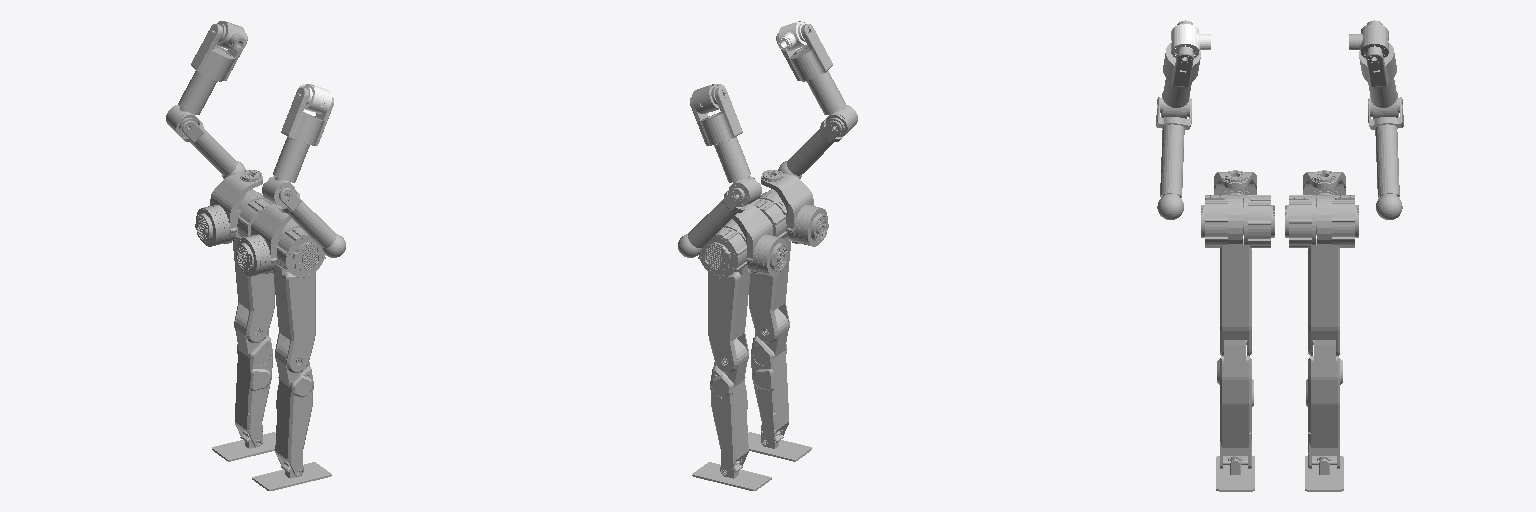
--- What the picture shows (computed from the rendered views, not written in the file) ---
Views: 3 orthographic renders of the robot side by side, from view 1: azimuth 30°, elevation 25°; view 2: azimuth 150°, elevation 25°; view 3: azimuth 270°, elevation 25°.
Robot: bot_elf — 32 links, 31 joints (12 revolute, 19 fixed); root link base_link; default pose: every joint at zero.
Links seen in each view (by area): view 1: r_hip_y_link, r_knee_y_link, l_knee_y_link, l_hip_z_link, l_hip_y_link, r_hip_z_link, r_elb_y_link, l_shld_x_link, r_shld_z_link, r_shld_x_link, l_shld_z_link, l_elb_y_link (+5 smaller); view 2: l_hip_y_link, l_knee_y_link, r_knee_y_link, r_hip_z_link, r_hip_y_link, l_hip_z_link, l_elb_y_link, r_shld_x_link, l_shld_z_link, l_shld_x_link, r_shld_z_link, r_elb_y_link (+5 smaller); view 3: l_hip_y_link, r_hip_y_link, l_knee_y_link, r_knee_y_link, r_elb_y_link, l_elb_y_link, l_hip_x_link, r_hip_x_link, l_ankle_x_link, r_ankle_x_link, r_shld_x_link, l_shld_x_link (+6 smaller).
Link boxes in pixels (x1,y1,x2,y2): r_hip_y_link: (273, 221, 325, 372); r_knee_y_link: (275, 338, 313, 476); l_knee_y_link: (235, 308, 272, 446); l_hip_z_link: (195, 170, 262, 246); l_hip_y_link: (233, 189, 274, 342); r_hip_z_link: (236, 204, 291, 276); r_elb_y_link: (276, 188, 345, 257); l_shld_x_link: (191, 24, 247, 81); r_shld_z_link: (262, 136, 309, 206); r_shld_x_link: (281, 87, 333, 145); l_shld_z_link: (166, 71, 217, 136); l_elb_y_link: (180, 119, 245, 178); l_hip_y_link: (698, 221, 750, 372); l_knee_y_link: (710, 338, 748, 476); r_knee_y_link: (751, 308, 788, 446); r_hip_z_link: (761, 170, 828, 246); r_hip_y_link: (749, 189, 790, 342); l_hip_z_link: (732, 204, 787, 276); l_elb_y_link: (678, 188, 747, 257); r_shld_x_link: (776, 24, 832, 81); l_shld_z_link: (714, 136, 761, 206); l_shld_x_link: (690, 87, 742, 145); r_shld_z_link: (806, 71, 857, 136); r_elb_y_link: (778, 119, 843, 178); l_hip_y_link: (1308, 195, 1358, 355); r_hip_y_link: (1201, 195, 1251, 355); l_knee_y_link: (1306, 340, 1342, 468); r_knee_y_link: (1217, 340, 1253, 468); r_elb_y_link: (1156, 97, 1191, 219); l_elb_y_link: (1368, 97, 1403, 219); l_hip_x_link: (1285, 195, 1316, 247); r_hip_x_link: (1243, 195, 1274, 247); l_ankle_x_link: (1305, 456, 1343, 491); r_ankle_x_link: (1216, 456, 1254, 491); r_shld_x_link: (1163, 20, 1200, 86); l_shld_x_link: (1359, 20, 1396, 86).
Bounding box of the posed robot: 0.2394 × 0.5577 × 1.11 m (x, y, z).
20 mesh visuals loaded from 21 distinct referenced files (20 OBJ); not drawn: 1 (reference not matched to a file when rendering).

URDF robot description (bot_elf):
<?xml version="1.0" encoding="utf-8"?>
<robot name="bot_elf">
  <link name="base_link">
    <inertial>
      <origin
        xyz="0.0047796 0.0024086 -0.0080626"
        rpy="0 0 0" />
      <mass
        value="8.1797" />
      <inertia
        ixx="0.048088"
        ixy="1.5174E-07"
        ixz="1.072E-05"
        iyy="0.025715"
        iyz="-1.8442E-06"
        izz="0.034109" />
    </inertial>
    <visual>
      <origin
        xyz="0 0 0"
        rpy="0 0 0" />
      <geometry>
        <mesh
          filename="../meshes/base_link.obj" />
      </geometry>
      <material
        name="">
        <color
          rgba="0.75294 0.75294 0.75294 1" />
      </material>
    </visual>
    <collision>
      <origin
        xyz="0 0 0"
        rpy="0 0 0" />
      <geometry>
        <mesh
          filename="../meshes/base_link.obj" />
      </geometry>
    </collision>
  </link>
  <link name="l_hip_z_link">
    <inertial>
      <origin
        xyz="-0.0926596088186881 1.83143900212845E-05 0.013335848664072"
        rpy="0 0 0" />
      <mass
        value="1.23681233828303" />
      <inertia
        ixx="0.00190369835860619"
        ixy="5.51860109314912E-07"
        ixz="-0.000295974194800576"
        iyy="0.00158455365942534"
        iyz="2.68654743796429E-06"
        izz="0.00116909292803411" />
    </inertial>
    <visual>
      <origin
        xyz="0 0 0"
        rpy="0 0 0" />
      <geometry>
        <mesh
          filename="../meshes/l_hip_z_link.obj" />
      </geometry>
      <material
        name="">
        <color
          rgba="0.752941176470588 0.752941176470588 0.752941176470588 1" />
      </material>
    </visual>
    <!-- <collision>
      <origin
        xyz="0 0 0"
        rpy="0 0 0" />
      <geometry>
        <mesh
          filename="../meshes/l_hip_z_link.obj" />
      </geometry>
    </collision> -->
  </link>
  <joint name="l_hip_z_joint"
    type="revolute">
    <origin
      xyz="0 0.1 -0.2929"
      rpy="0 0 0" />
    <parent
      link="base_link" />
    <child
      link="l_hip_z_link" />
    <axis
      xyz="0 0 1" />
    <limit
      lower="-0.785"
      upper="0.785"
      effort="20"
      velocity="20" />
    <dynamics damping="0.0" friction="0.0" rotor_inertia="0.01"/>
  </joint>
  <link name="l_hip_x_link">
    <inertial>
      <origin
        xyz="-0.00338370329540797 -0.0467745110690707 5.150285588576E-06"
        rpy="0 0 0" />
      <mass
        value="1.52690683733997" />
      <inertia
        ixx="0.00145004913823758"
        ixy="4.10352624430737E-05"
        ixz="4.97801733338824E-08"
        iyy="0.00233457718239287"
        iyz="-1.50048456747228E-08"
        izz="0.00157352349598003" />
    </inertial>
    <visual>
      <origin
        xyz="0 0 0"
        rpy="0 0 0" />
      <geometry>
        <mesh
          filename="../meshes/l_hip_x_link.obj" />
      </geometry>
      <material
        name="">
        <color
          rgba="0.752941176470588 0.752941176470588 0.752941176470588 1" />
      </material>
    </visual>
    <!-- <collision>
      <origin
        xyz="0 0 0"
        rpy="0 0 0" />
      <geometry>
        <mesh
          filename="../meshes/l_hip_x_link.obj" />
      </geometry>
    </collision> -->
  </link>
  <joint name="l_hip_x_joint"
    type="revolute">
    <origin
      xyz="0 0 0"
      rpy="0 0 0" />
    <parent
      link="l_hip_z_link" />
    <child
      link="l_hip_x_link" />
    <axis
      xyz="1 0 0" />
    <limit
      lower="-0.523"
      upper="0.785"
      effort="40"
      velocity="20" />
    <dynamics damping="0.0" friction="0.0" rotor_inertia="0.01"/>
  </joint>
  <link name="l_hip_y_link">
    <inertial>
      <origin
        xyz="0.00255762409650847 0.0236405387147591 -0.048808744713007"
        rpy="0 0 0" />
      <mass
        value="2.50086507860377" />
      <inertia
        ixx="0.0110437074735068"
        ixy="1.73008147567407E-06"
        ixz="0.000227328231594566"
        iyy="0.0125914973055777"
        iyz="-2.64879858826109E-05"
        izz="0.0023184281360165" />
    </inertial>
    <visual>
      <origin
        xyz="0 0 0"
        rpy="0 0 0" />
      <geometry>
        <mesh
          filename="../meshes/l_hip_y_link.obj" />
      </geometry>
      <material
        name="">
        <color
          rgba="0.752941176470588 0.752941176470588 0.752941176470588 1" />
      </material>
    </visual>
    <collision>
      <origin
        xyz="0 0 0"
        rpy="0 0 0" />
      <geometry>
        <mesh
          filename="../meshes/l_hip_y_link.obj" />
      </geometry>
    </collision>
  </link>
  <joint name="l_hip_y_joint"
    type="revolute">
    <origin
      xyz="0 0 0"
      rpy="0 0 0" />
    <parent
      link="l_hip_x_link" />
    <child
      link="l_hip_y_link" />
    <axis
      xyz="0 1 0" />
    <limit
      lower="-2"
      upper="0.5"
      effort="150"
      velocity="20" />
    <dynamics damping="0.0" friction="0.0" rotor_inertia="0.02"/>
  </joint>
  <link name="l_knee_y_link">
    <inertial>
      <origin
        xyz="0.00615799985005955 0.000579611337631 -0.110706777787508"
        rpy="0 0 0" />
      <mass
        value="1.42611317447382" />
      <inertia
        ixx="0.00265261046145861"
        ixy="3.62716577648164E-06"
        ixz="-0.00014997989154327"
        iyy="0.00293783143268895"
        iyz="1.89587363258298E-05"
        izz="0.000614654317255875" />
    </inertial>
    <visual>
      <origin
        xyz="0 0 0"
        rpy="0 0 0" />
      <geometry>
        <mesh
          filename="../meshes/l_knee_y_link.obj" />
      </geometry>
      <material
        name="">
        <color
          rgba="0.752941176470588 0.752941176470588 0.752941176470588 1" />
      </material>
    </visual>
    <!-- <collision>
      <origin
        xyz="0 0 0"
        rpy="0 0 0" />
      <geometry>
        <mesh
          filename="../meshes/l_knee_y_link.obj" />
      </geometry>
    </collision> -->
  </link>
  <joint name="l_knee_y_joint"
    type="revolute">
    <origin
      xyz="0 0 -0.3"
      rpy="0 0 0" />
    <parent
      link="l_hip_y_link" />
    <child
      link="l_knee_y_link" />
    <axis
      xyz="0 1 0" />
    <limit
      lower="0"
      upper="2.2"
      effort="150"
      velocity="20" />
    <dynamics damping="0.0" friction="0.0" rotor_inertia="0.02"/>
  </joint>
  <link name="l_ankle_y_link">
    <inertial>
      <origin
        xyz="-6.09814513086586E-12 5.83219791905343E-10 3.64153152077051E-14"
        rpy="0 0 0" />
      <mass
        value="0.0230716180694964" />
      <inertia
        ixx="2.87473990078246E-06"
        ixy="-5.92541251517592E-17"
        ixz="-6.2876746116499E-18"
        iyy="5.59461108357194E-07"
        iyz="5.67081566973957E-19"
        izz="2.6957694272781E-06" />
    </inertial>
    <visual>
      <origin
        xyz="0 0 0"
        rpy="0 0 0" />
      <geometry>
        <mesh
          filename="../meshes/l_ankle_y_link.obj" />
      </geometry>
      <material
        name="">
        <color
          rgba="0.752941176470588 0.752941176470588 0.752941176470588 1" />
      </material>
    </visual>
    <!-- <collision>
      <origin
        xyz="0 0 0"
        rpy="0 0 0" />
      <geometry>
        <mesh
          filename="../meshes/l_ankle_y_link.obj" />
      </geometry>
    </collision> -->
  </link>
  <joint name="l_ankle_y_joint"
    type="revolute">
    <origin
      xyz="0 0 -0.3"
      rpy="0 0 0" />
    <parent
      link="l_knee_y_link" />
    <child
      link="l_ankle_y_link" />
    <axis
      xyz="0 1 0" />
    <limit
      lower="-1.134"
      upper="0.872"
      effort="14"
      velocity="20" />
    <dynamics damping="0.0" friction="0.0" rotor_inertia="0.006"/>
  </joint>
  <link name="l_ankle_x_link">
    <inertial>
      <origin
        xyz="-0.000451547351572134 1.90180791947991E-09 -0.0239480271401858"
        rpy="0 0 0" />
      <mass
        value="0.242076229237956" />
      <inertia
        ixx="0.000133478606835497"
        ixy="-1.35534858432808E-12"
        ixz="-4.72078298245015E-08"
        iyy="0.000565974636810553"
        iyz="-3.48826857670192E-12"
        izz="0.000693006055828246" />
    </inertial>
    <visual>
      <origin
        xyz="0 0 0"
        rpy="0 0 0" />
      <geometry>
        <mesh
          filename="../meshes/l_ankle_x_link.obj" />
      </geometry>
      <material
        name="">
        <color
          rgba="0.752941176470588 0.752941176470588 0.752941176470588 1" />
      </material>
    </visual>
    <collision>
      <origin
        xyz="0 0 0"
        rpy="0 0 0" />
      <geometry>
        <mesh
          filename="../meshes/l_ankle_x_link.obj" />
      </geometry>
    </collision>
    <!-- <collision>
      <origin
        xyz="0 0 -0.0145"
        rpy="0 0 0" />
      <geometry>
        <box size="0.18 0.086 0.029"/>
      </geometry>
    </collision> -->
  </link>
  <joint name="l_ankle_x_joint"
    type="revolute">
    <origin
      xyz="0 0 0"
      rpy="0 0 0" />
    <parent
      link="l_ankle_y_link" />
    <child
      link="l_ankle_x_link" />
    <axis
      xyz="1 0 0" />
    <limit
      lower="-0.349"
      upper="0.349"
      effort="14"
      velocity="20" />
    <dynamics damping="0.0" friction="0.0" rotor_inertia="0.006"/>
  </joint>
  <link name="r_hip_z_link">
    <inertial>
      <origin
        xyz="-0.0926596100628432 -1.83149507901742E-05 0.0133358473859379"
        rpy="0 0 0" />
      <mass
        value="1.23681232467206" />
      <inertia
        ixx="0.00190369819431391"
        ixy="-5.51893727727547E-07"
        ixz="-0.000295974083738072"
        iyy="0.00158455355805139"
        iyz="-2.68652577448903E-06"
        izz="0.00116909298056176" />
    </inertial>
    <visual>
      <origin
        xyz="0 0 0"
        rpy="0 0 0" />
      <geometry>
        <mesh
          filename="../meshes/r_hip_z_link.obj" />
      </geometry>
      <material
        name="">
        <color
          rgba="0.752941176470588 0.752941176470588 0.752941176470588 1" />
      </material>
    </visual>
    <!-- <collision>
      <origin
        xyz="0 0 0"
        rpy="0 0 0" />
      <geometry>
        <mesh
          filename="../meshes/r_hip_z_link.obj" />
      </geometry>
    </collision> -->
  </link>
  <joint name="r_hip_z_joint"
    type="revolute">
    <origin
      xyz="0 -0.1 -0.2929"
      rpy="0 0 0" />
    <parent
      link="base_link" />
    <child
      link="r_hip_z_link" />
    <axis
      xyz="0 0 1" />
    <limit
      lower="-0.785"
      upper="0.785"
      effort="20"
      velocity="20" />
    <dynamics damping="0.0" friction="0.0" rotor_inertia="0.01"/>
  </joint>
  <link name="r_hip_x_link">
    <inertial>
      <origin
        xyz="-0.00338370329319122 0.0467745110719649 -5.15028594272327E-06"
        rpy="0 0 0" />
      <mass
        value="1.52690683726889" />
      <inertia
        ixx="0.00145004913816721"
        ixy="-4.1035262366074E-05"
        ixz="-4.97801918977252E-08"
        iyy="0.00233457718230779"
        iyz="-1.50048535538651E-08"
        izz="0.00157352349584134" />
    </inertial>
    <visual>
      <origin
        xyz="0 0 0"
        rpy="0 0 0" />
      <geometry>
        <mesh
          filename="../meshes/r_hip_x_link.obj" />
      </geometry>
      <material
        name="">
        <color
          rgba="0.752941176470588 0.752941176470588 0.752941176470588 1" />
      </material>
    </visual>
    <!-- <collision>
      <origin
        xyz="0 0 0"
        rpy="0 0 0" />
      <geometry>
        <mesh
          filename="../meshes/r_hip_x_link.obj" />
      </geometry>
    </collision> -->
  </link>
  <joint name="r_hip_x_joint"
    type="revolute">
    <origin
      xyz="0 0 0"
      rpy="0 0 0" />
    <parent
      link="r_hip_z_link" />
    <child
      link="r_hip_x_link" />
    <axis
      xyz="1 0 0" />
    <limit
      lower="-0.785"
      upper="0.523"
      effort="40"
      velocity="20" />
    <dynamics damping="0.0" friction="0.0" rotor_inertia="0.01"/>
  </joint>
  <link name="r_hip_y_link">
    <inertial>
      <origin
        xyz="0.00255763066098993 -0.0236405391952909 -0.0488087769927071"
        rpy="0 0 0" />
      <mass
        value="2.50086518492187" />
      <inertia
        ixx="0.0110437209512944"
        ixy="-1.72998158531581E-06"
        ixz="0.000227332007725612"
        iyy="0.012591510850742"
        iyz="2.64884628868717E-05"
        izz="0.00231842880087343" />
    </inertial>
    <visual>
      <origin
        xyz="0 0 0"
        rpy="0 0 0" />
      <geometry>
        <mesh
          filename="../meshes/r_hip_y_link.obj" />
      </geometry>
      <material
        name="">
        <color
          rgba="0.752941176470588 0.752941176470588 0.752941176470588 1" />
      </material>
    </visual>
    <collision>
      <origin
        xyz="0 0 0"
        rpy="0 0 0" />
      <geometry>
        <mesh
          filename="../meshes/r_hip_y_link.obj" />
      </geometry>
    </collision>
  </link>
  <joint name="r_hip_y_joint"
    type="revolute">
    <origin
      xyz="0 0 0"
      rpy="0 0 0" />
    <parent
      link="r_hip_x_link" />
    <child
      link="r_hip_y_link" />
    <axis
      xyz="0 1 0" />
    <limit
      lower="-2"
      upper="0.5"
      effort="150"
      velocity="20" />
    <dynamics damping="0.0" friction="0.0" rotor_inertia="0.02"/>
  </joint>
  <link name="r_knee_y_link">
    <inertial>
      <origin
        xyz="0.00617132335541426 -0.000560807743664765 -0.11065165092477"
        rpy="0 0 0" />
      <mass
        value="1.42506790131187" />
      <inertia
        ixx="0.00264676043875699"
        ixy="-3.64420143143032E-06"
        ixz="-0.000149674709580511"
        iyy="0.00293197556843643"
        iyz="-1.92776513579778E-05"
        izz="0.000614607093781911" />
    </inertial>
    <visual>
      <origin
        xyz="0 0 0"
        rpy="0 0 0" />
      <geometry>
        <mesh
          filename="../meshes/r_knee_y_link.obj" />
      </geometry>
      <material
        name="">
        <color
          rgba="0.752941176470588 0.752941176470588 0.752941176470588 1" />
      </material>
    </visual>
    <!-- <collision>
      <origin
        xyz="0 0 0"
        rpy="0 0 0" />
      <geometry>
        <mesh
          filename="../meshes/r_knee_y_link.obj" />
      </geometry>
    </collision> -->
  </link>
  <joint name="r_knee_y_joint"
    type="revolute">
    <origin
      xyz="0 0 -0.3"
      rpy="0 0 0" />
    <parent
      link="r_hip_y_link" />
    <child
      link="r_knee_y_link" />
    <axis
      xyz="0 1 0" />
    <limit
      lower="0"
      upper="2.2"
      effort="150"
      velocity="20" />
    <dynamics damping="0.0" friction="0.0" rotor_inertia="0.02"/>
  </joint>
  <link name="r_ankle_y_link">
    <inertial>
      <origin
        xyz="-1.21872957033124E-11 -5.83219417205072E-10 5.00266494896096E-13"
        rpy="0 0 0" />
      <mass
        value="0.0230716180694967" />
      <inertia
        ixx="2.8747399010197E-06"
        ixy="-6.04370024399216E-17"
        ixz="-8.30234156722694E-18"
        iyy="5.59461108474785E-07"
        iyz="-1.29308673475988E-18"
        izz="2.69576942739776E-06" />
    </inertial>
    <visual>
      <origin
        xyz="0 0 0"
        rpy="0 0 0" />
      <geometry>
        <mesh
          filename="../meshes/r_ankle_y_link.obj" />
      </geometry>
      <material
        name="">
        <color
          rgba="0.752941176470588 0.752941176470588 0.752941176470588 1" />
      </material>
    </visual>
    <!-- <collision>
      <origin
        xyz="0 0 0"
        rpy="0 0 0" />
      <geometry>
        <mesh
          filename="../meshes/r_ankle_y_link.obj" />
      </geometry>
    </collision> -->
  </link>
  <joint name="r_ankle_y_joint"
    type="revolute">
    <origin
      xyz="0 0 -0.3"
      rpy="0 0 0" />
    <parent
      link="r_knee_y_link" />
    <child
      link="r_ankle_y_link" />
    <axis
      xyz="0 1 0" />
    <limit
      lower="-1.134"
      upper="0.872"
      effort="14"
      velocity="20" />
    <dynamics damping="0.0" friction="0.0" rotor_inertia="0.006"/>
  </joint>
  <link name="r_ankle_x_link">
    <inertial>
      <origin
        xyz="-0.000451549280729961 -1.79609392636504E-09 -0.0239480246768528"
        rpy="0 0 0" />
      <mass
        value="0.24207626222516" />
      <inertia
        ixx="0.000133478605085963"
        ixy="1.32257502304071E-12"
        ixz="-4.72071011237789E-08"
        iyy="0.000565974633400782"
        iyz="3.25954307181434E-12"
        izz="0.000693006056524855" />
    </inertial>
    <visual>
      <origin
        xyz="0 0 0"
        rpy="0 0 0" />
      <geometry>
        <mesh
          filename="../meshes/r_ankle_x_link.obj" />
      </geometry>
      <material
        name="">
        <color
          rgba="0.752941176470588 0.752941176470588 0.752941176470588 1" />
      </material>
    </visual>
    <collision>
      <origin
        xyz="0 0 0"
        rpy="0 0 0" />
      <geometry>
        <mesh
          filename="../meshes/r_ankle_x_link.obj" />
      </geometry>
    </collision>
    <!-- <collision>
      <origin
        xyz="0 0 -0.0145"
        rpy="0 0 0" />
      <geometry>
        <box size="0.18 0.086 0.029"/>
      </geometry>
    </collision> -->
  </link>
  <joint name="r_ankle_x_joint"
    type="revolute">
    <origin
      xyz="0 0 0"
      rpy="0 0 0" />
    <parent
      link="r_ankle_y_link" />
    <child
      link="r_ankle_x_link" />
    <axis
      xyz="1 0 0" />
    <limit
      lower="-0.349"
      upper="0.349"
      effort="14"
      velocity="20" />
    <dynamics damping="0.0" friction="0.0" rotor_inertia="0.006"/>
  </joint>
  <link name="l_shld_y_link">
    <inertial>
      <origin
        xyz="-0.000602020278894832 -0.00203253807550383 5.25078036642812E-05"
        rpy="0 0 0" />
      <mass
        value="0.397430898254414" />
      <inertia
        ixx="0.000197533082877176"
        ixy="-2.13914774743445E-06"
        ixz="4.75269653041195E-07"
        iyy="0.000172304821546368"
        iyz="1.06293202473427E-06"
        izz="0.000193880730475137" />
    </inertial>
    <visual>
      <origin
        xyz="0 0 0"
        rpy="0 0 0" />
      <geometry>
        <mesh
          filename="../meshes/l_shld_y_link.obj" />
      </geometry>
      <material
        name="">
        <color
          rgba="0.752941176470588 0.752941176470588 0.752941176470588 1" />
      </material>
    </visual>
    <!-- <collision>
      <origin
        xyz="0 0 0"
        rpy="0 0 0" />
      <geometry>
        <mesh
          filename="../meshes/l_shld_y_link.obj" />
      </geometry>
    </collision> -->
  </link>
  <joint name="l_shld_y_joint"
    type="fixed">
    <origin
      xyz="0 0.213 0.1521"
      rpy="0 0.5 0" />
    <parent
      link="base_link" />
    <child
      link="l_shld_y_link" />
    <axis
      xyz="0 1 0" />
    <limit
      lower="-2"
      upper="2"
      effort="27"
      velocity="20" />
  </joint>
  <link name="l_shld_x_link">
    <inertial>
      <origin
        xyz="3.49942010425215E-05 5.81165736925626E-05 -0.068328160023371"
        rpy="0 0 0" />
      <mass
        value="0.621968051279973" />
      <inertia
        ixx="0.000522407314474642"
        ixy="1.0633092850603E-06"
        ixz="4.82966301174553E-06"
        iyy="0.000684523465472649"
        iyz="-8.21814917464773E-07"
        izz="0.000533096664005443" />
    </inertial>
    <visual>
      <origin
        xyz="0 0 0"
        rpy="0 0 0" />
      <geometry>
        <mesh
          filename="../meshes/l_shld_x_link.obj" />
      </geometry>
      <material
        name="">
        <color
          rgba="0.752941176470588 0.752941176470588 0.752941176470588 1" />
      </material>
    </visual>
    <!-- <collision>
      <origin
        xyz="0 0 0"
        rpy="0 0 0" />
      <geometry>
        <mesh
          filename="../meshes/l_shld_x_link.obj" />
      </geometry>
    </collision> -->
  </link>
  <joint name="l_shld_x_joint"
    type="fixed">
    <origin
      xyz="0 0 0"
      rpy="0.1 0 0" />
    <parent
      link="l_shld_y_link" />
    <child
      link="l_shld_x_link" />
    <axis
      xyz="1 0 0" />
    <limit
      lower="-0.2"
      upper="3.14"
      effort="27"
      velocity="20" />
  </joint>
  <link name="l_shld_z_link">
    <inertial>
      <origin
        xyz="8.04921908110876E-05 -0.000424509130888678 -0.230838826500421"
        rpy="0 0 0" />
      <mass
        value="0.449112448185888" />
      <inertia
        ixx="0.000250701927485454"
        ixy="8.21779092863005E-07"
        ixz="-1.0631472773896E-06"
        iyy="0.000253940290337809"
        iyz="4.73387697997262E-07"
        izz="0.000224460005915657" />
    </inertial>
    <visual>
      <origin
        xyz="0 0 0"
        rpy="0 0 0" />
      <geometry>
        <mesh
          filename="../meshes/l_shld_z_link.obj" />
      </geometry>
      <material
        name="">
        <color
          rgba="0.752941176470588 0.752941176470588 0.752941176470588 1" />
      </material>
    </visual>
    <!-- <collision>
      <origin
        xyz="0 0 0"
        rpy="0 0 0" />
      <geometry>
        <mesh
          filename="../meshes/l_shld_z_link.obj" />
      </geometry>
    </collision> -->
  </link>
  <joint name="l_shld_z_joint"
    type="fixed">
    <origin
      xyz="0 0 0"
      rpy="0 0 0" />
    <parent
      link="l_shld_x_link" />
    <child
      link="l_shld_z_link" />
    <axis
      xyz="0 0 1" />
    <limit
      lower="-2"
      upper="2"
      effort="7"
      velocity="20" />
  </joint>
  <link name="l_elb_y_link">
    <inertial>
      <origin
        xyz="1.52840600574913E-09 0.00061623853967685 -0.108440061437075"
        rpy="0 0 0" />
      <mass
        value="0.164832849485564" />
      <inertia
        ixx="0.000272523867356837"
        ixy="-3.68958961037701E-12"
        ixz="-4.08453819018909E-13"
        iyy="0.000246652324618476"
        iyz="5.6498846108711E-07"
        izz="0.000111491920128197" />
    </inertial>
    <visual>
      <origin
        xyz="0 0 0"
        rpy="0 0 0" />
      <geometry>
        <mesh
          filename="../meshes/l_elb_y_link.obj" />
      </geometry>
      <material
        name="">
        <color
          rgba="0.752941176470588 0.752941176470588 0.752941176470588 1" />
      </material>
    </visual>
    <collision>
      <origin
        xyz="0 0 0"
        rpy="0 0 0" />
      <geometry>
        <mesh
          filename="../meshes/l_elb_y_link.obj" />
      </geometry>
    </collision>
  </link>
  <joint name="l_elb_y_joint"
    type="fixed">
    <origin
      xyz="0 0 -0.24505"
      rpy="0 -1.2 0" />
    <parent
      link="l_shld_z_link" />
    <child
      link="l_elb_y_link" />
    <axis
      xyz="0 1 0" />
    <limit
      lower="-2"
      upper="2"
      effort="27"
      velocity="20" />
  </joint>
  <link name="r_shld_y_link">
    <inertial>
      <origin
        xyz="-0.000602020278894832 0.00203253807550383 5.25078036642812E-05"
        rpy="0 0 0" />
      <mass
        value="0.397430898254414" />
        <inertia
        ixx="0.000197533082877176"
        ixy="2.13914774743445E-06"
        ixz="-4.75269653041195E-07"
        iyy="0.000172304821546368"
        iyz="1.06293202473427E-06"
        izz="0.000193880730475137" />
    </inertial>
    <visual>
      <origin
        xyz="0 0 0"
        rpy="0 0 0" />
      <geometry>
        <mesh
          filename="../meshes/r_shld_y_link.obj" />
      </geometry>
      <material
        name="">
        <color
          rgba="1 1 1 1" />
      </material>
    </visual>
    <!-- <collision>
      <origin
        xyz="0 0 0"
        rpy="0 0 0" />
      <geometry>
        <mesh
          filename="../meshes/r_shld_y_link.obj" />
      </geometry>
    </collision> -->
  </link>
  <joint name="r_shld_y_joint"
    type="fixed">
    <origin
      xyz="0 -0.213 0.1521"
      rpy="0 0.5 0" />
    <parent
      link="base_link" />
    <child
      link="r_shld_y_link" />
    <axis
      xyz="0 1 0" />
    <limit
      lower="-2"
      upper="2"
      effort="27"
      velocity="20" />
  </joint>
  <link name="r_shld_x_link">
    <inertial>
      <origin
        xyz="3.49942010425205E-05 -5.81165736925071E-05 -0.0683281600233711"
        rpy="0 0 0" />
      <mass
        value="0.621968051279973" />
      <inertia
        ixx="0.000522407314474642"
        ixy="-1.06330928506036E-06"
        ixz="4.82966301174548E-06"
        iyy="0.000684523465472649"
        iyz="8.21814917464805E-07"
        izz="0.000533096664005443" />
    </inertial>
    <visual>
      <origin
        xyz="0 0 0"
        rpy="0 0 0" />
      <geometry>
        <mesh
          filename="../meshes/r_shld_x_link.obj" />
      </geometry>
      <material
        name="">
        <color
          rgba="0.752941176470588 0.752941176470588 0.752941176470588 1" />
      </material>
    </visual>
    <!-- <collision>
      <origin
        xyz="0 0 0"
        rpy="0 0 0" />
      <geometry>
        <mesh
          filename="../meshes/r_shld_x_link.obj" />
      </geometry>
    </collision> -->
  </link>
  <joint name="r_shld_x_joint"
    type="fixed">
    <origin
      xyz="0 0 0"
      rpy="-0.1 0 0" />
    <parent
      link="r_shld_y_link" />
    <child
      link="r_shld_x_link" />
    <axis
      xyz="1 0 0" />
    <limit
      lower="-3.14"
      upper="0.2"
      effort="27"
      velocity="20" />
  </joint>
  <link name="r_shld_z_link">
    <inertial>
      <origin
        xyz="8.0589558253347E-05 0.000424513070547111 -0.230838913045408"
        rpy="0 0 0" />
      <mass
        value="0.449113232804568" />
      <inertia
        ixx="0.000250699864950972"
        ixy="-8.21992379855939E-07"
        ixz="-1.06334410611211E-06"
        iyy="0.000253940771428312"
        iyz="-4.73304934008079E-07"
        izz="0.000224461304023008" />
    </inertial>
    <visual>
      <origin
        xyz="0 0 0"
        rpy="0 0 0" />
      <geometry>
        <mesh
          filename="../meshes/r_shld_z_link.obj" />
      </geometry>
      <material
        name="">
        <color
          rgba="0.752941176470588 0.752941176470588 0.752941176470588 1" />
      </material>
    </visual>
    <!-- <collision>
      <origin
        xyz="0 0 0"
        rpy="0 0 0" />
      <geometry>
        <mesh
          filename="../meshes/r_shld_z_link.obj" />
      </geometry>
    </collision> -->
  </link>
  <joint name="r_shld_z_joint"
    type="fixed">
    <origin
      xyz="0 0 0"
      rpy="0 0 0" />
    <parent
      link="r_shld_x_link" />
    <child
      link="r_shld_z_link" />
    <axis
      xyz="0 0 1" />
    <limit
      lower="-2"
      upper="2"
      effort="7"
      velocity="20" />
  </joint>
  <link name="r_elb_y_link">
    <inertial>
      <origin
        xyz="-1.52840602714641E-09 -0.000616238539676822 -0.108440061437075"
        rpy="0 0 0" />
      <mass
        value="0.164832849485564" />
      <inertia
        ixx="0.000272523867356837"
        ixy="-3.68958975120286E-12"
        ixz="4.08453745704318E-13"
        iyy="0.000246652324618476"
        iyz="-5.64988461087134E-07"
        izz="0.000111491920128197" />
    </inertial>
    <visual>
      <origin
        xyz="0 0 0"
        rpy="0 0 0" />
      <geometry>
        <mesh
          filename="../meshes/r_elb_y_link.obj" />
      </geometry>
      <material
        name="">
        <color
          rgba="0.752941176470588 0.752941176470588 0.752941176470588 1" />
      </material>
    </visual>
    <collision>
      <origin
        xyz="0 0 0"
        rpy="0 0 0" />
      <geometry>
        <mesh
          filename="../meshes/r_elb_y_link.obj" />
      </geometry>
    </collision>
  </link>
  <joint name="r_elb_y_joint"
    type="fixed">
    <origin
      xyz="0 0 -0.24505"
      rpy="0 -1.2 0" />
    <parent
      link="r_shld_z_link" />
    <child
      link="r_elb_y_link" />
    <axis
      xyz="0 1 0" />
    <limit
      lower="-2"
      upper="2"
      effort="27"
      velocity="20" />
  </joint>

  <link name="contact1"/>
  <link name="contact2"/>
  <link name="contact3"/>
  <link name="contact4" />
  <link name="contact5"/>
  <link name="contact6"/>
  <link name="contact7"/>
  <link name="contact8"/>

  <link name="imu_link"/>

  <link name="l_hand_contact"/>
  <link name="r_hand_contact"/>

  <!-- hand -->
  <joint name="l_hand_joint" type="fixed">
    <origin rpy="0 0 0" xyz="0 0 -0.235"/>
    <parent link="l_elb_y_link"/>
    <child link="l_hand_contact"/>
  </joint>
  <joint name="r_hand_joint" type="fixed">
    <origin rpy="0 0 0" xyz="0 0 -0.235"/>
    <parent link="r_elb_y_link"/>
    <child link="r_hand_contact"/>
  </joint>


  <joint name="contact1_joint" type="fixed">
    <origin rpy="0 0 0" xyz="0.09 0.043 -0.029"/>
    <parent link="l_ankle_x_link"/>
    <child link="contact1"/>
  </joint>
  <joint name="contact2_joint" type="fixed">
    <origin rpy="0 0 0" xyz="0.09 -0.043 -0.029"/>
    <parent link="l_ankle_x_link"/>
    <child link="contact2"/>
  </joint>
  <joint name="contact3_joint" type="fixed">
    <origin rpy="0 0 0" xyz="-0.09 0.043 -0.029"/>
    <parent link="l_ankle_x_link"/>
    <child link="contact3"/>
  </joint>
  <joint name="contact4_joint" type="fixed">
    <origin rpy="0 0 0" xyz="-0.09 -0.043 -0.029"/>
    <parent link="l_ankle_x_link"/>
    <child link="contact4"/>
  </joint>
  <joint name="contact5_joint" type="fixed">
    <origin rpy="0 0 0" xyz="0.09 0.043 -0.029"/>
    <parent link="r_ankle_x_link"/>
    <child link="contact5"/>
  </joint>
  <joint name="contact6_joint" type="fixed">
    <origin rpy="0 0 0" xyz="0.09 -0.043 -0.029"/>
    <parent link="r_ankle_x_link"/>
    <child link="contact6"/>
  </joint>
  <joint name="contact7_joint" type="fixed">
    <origin rpy="0 0 0" xyz="-0.09 0.043 -0.029"/>
    <parent link="r_ankle_x_link"/>
    <child link="contact7"/>
  </joint>
  <joint name="contact8_joint" type="fixed">
    <origin rpy="0 0 0" xyz="-0.09 -0.043 -0.029"/>
    <parent link="r_ankle_x_link"/>
    <child link="contact8"/>
  </joint>
  <joint name="imu_joint" type="fixed">
    <origin rpy="0 0 0" xyz="0 0 0"/>
    <parent link="base_link"/>
    <child link="imu_link"/>
  </joint>

</robot>
